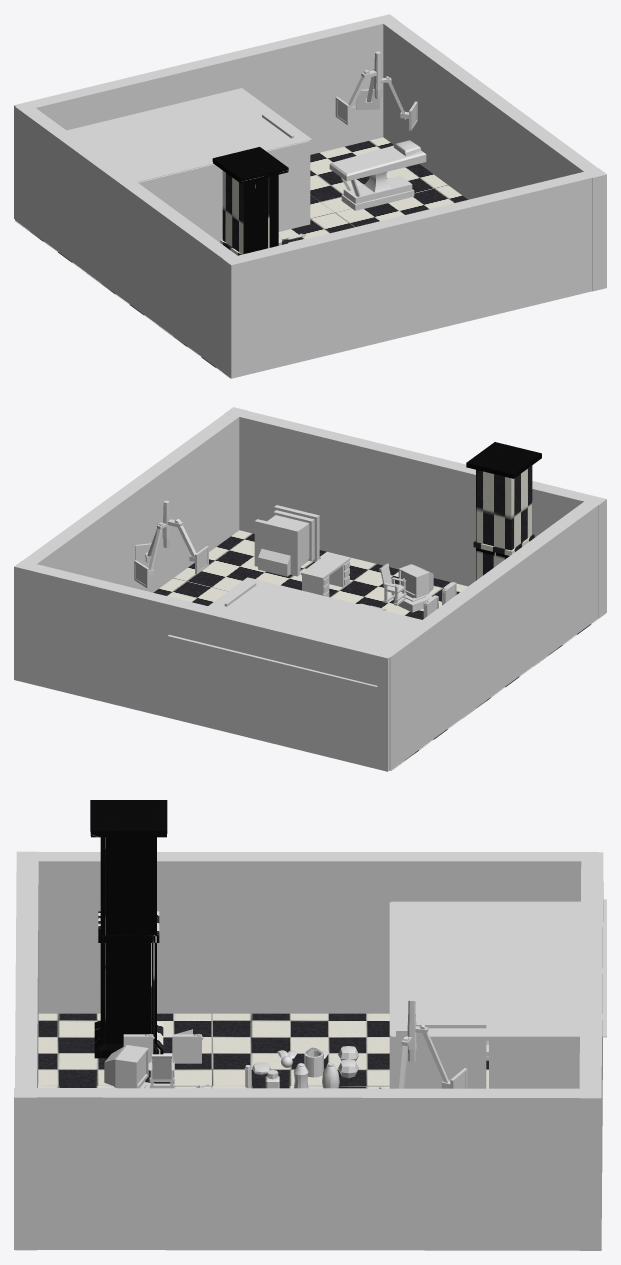
The model's file is map_test2.fbx.
The picture shows the model from 3 angles, top to bottom: view 1: azimuth 30°, elevation 25°; view 2: azimuth 150°, elevation 25°; view 3: azimuth 270°, elevation 25°; orthographic projection. The views are drawn at different scales.
Visible parts, largest first — view 1: Wall_Variant_2.002, Wall_Variant_2.001, Wall_Variant_2.004, Wall_Variant_2.003, Plane, Floor.004, Wall_Variant_2, Floor.001, Bed_Surgery_Variant_1, Extension_Variant_1; view 2: Wall_Variant_2.004, Wall_Variant_2.002, Wall_Variant_2.001, Wall_Variant_2.003, Plane, Floor.004, Generator, Extension_Variant_1, Desk_Variant_1.001, Computer.002, Execution_Chair, Floor.001; view 3: Wall_Variant_2.003, Wall_Variant_2.001, Plane, Floor.004, Floor.001, Wall_Variant_2.004, Wall_Variant_2.002, Wall_Variant_2.005, Door_Variant_1.001, Extension_Variant_1, Computer.002, Wall_Variant_2 (+2 smaller).
Part boxes in pixels (x1,y1,x2,y2): Wall_Variant_2.002: (223,168,606,378); Wall_Variant_2.001: (15,103,245,378); Wall_Variant_2.004: (14,14,397,218); Wall_Variant_2.003: (383,20,606,291); Plane: (15,137,467,378); Floor.004: (98,110,312,182); Wall_Variant_2: (138,140,310,242); Floor.001: (67,88,271,152); Bed_Surgery_Variant_1: (329,140,426,210); Extension_Variant_1: (335,51,417,130); Wall_Variant_2.004: (14,560,389,771); Wall_Variant_2.002: (225,407,606,618); Wall_Variant_2.001: (376,495,606,770); Wall_Variant_2.003: (23,407,247,592); Plane: (153,442,605,770); Floor.004: (208,577,421,648); Generator: (254,505,319,576); Extension_Variant_1: (134,500,208,588); Desk_Variant_1.001: (301,552,350,596); Computer.002: (393,564,433,612); Execution_Chair: (379,563,406,605); Floor.001: (167,634,377,687); Wall_Variant_2.003: (14,1088,579,1250); Wall_Variant_2.001: (16,852,598,1013); Plane: (38,800,488,1088); Floor.004: (391,901,499,1037); Floor.001: (498,899,606,1037); Wall_Variant_2.004: (579,852,603,1250); Wall_Variant_2.002: (15,851,38,1250); Wall_Variant_2.005: (489,1037,579,1088); Door_Variant_1.001: (407,1023,486,1088); Extension_Variant_1: (379,998,467,1088); Computer.002: (104,1045,154,1088); Wall_Variant_2: (389,902,409,1088).
Size of the model in its own units: 12.1 by 5.51 by 12.28.
38 materials, 1 textured.
